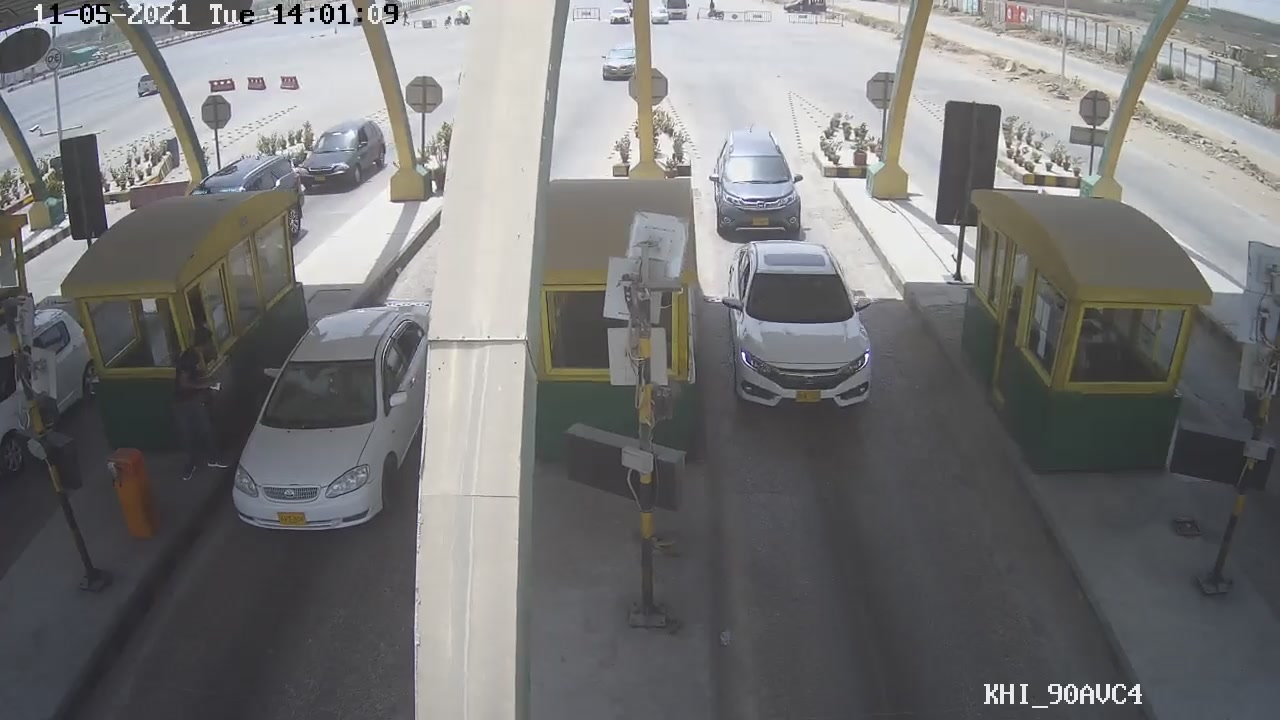F1: (715, 232, 873, 414)
